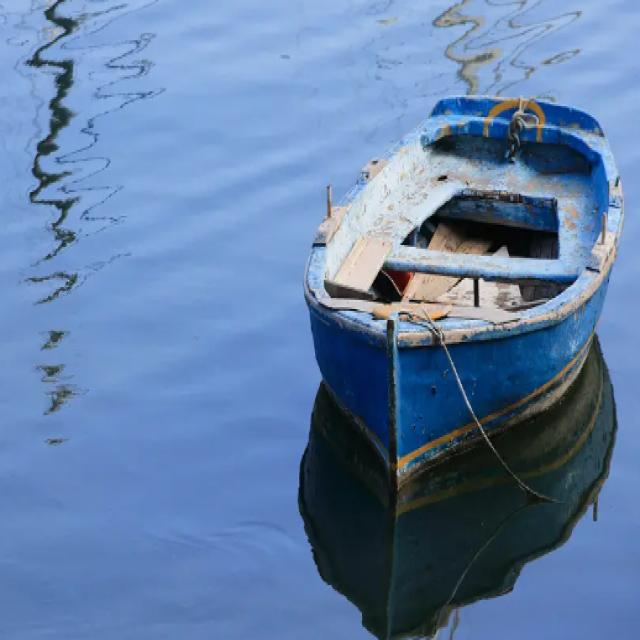fishing boat: (292, 91, 630, 494)
